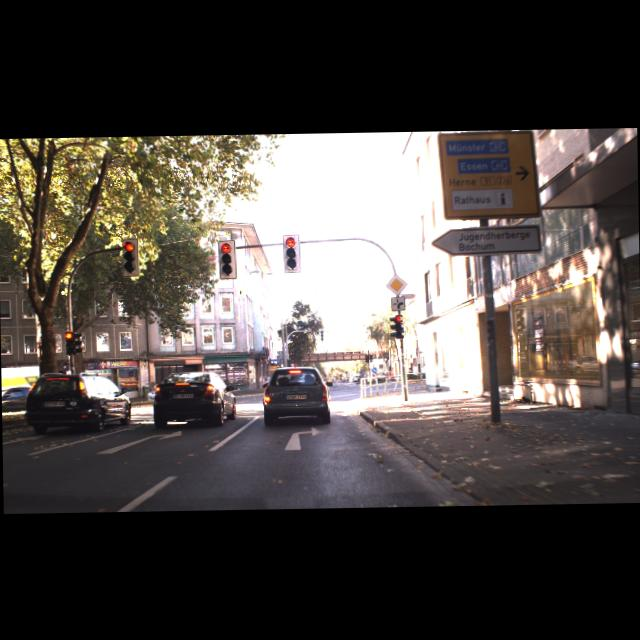other: (384, 273, 406, 294)
